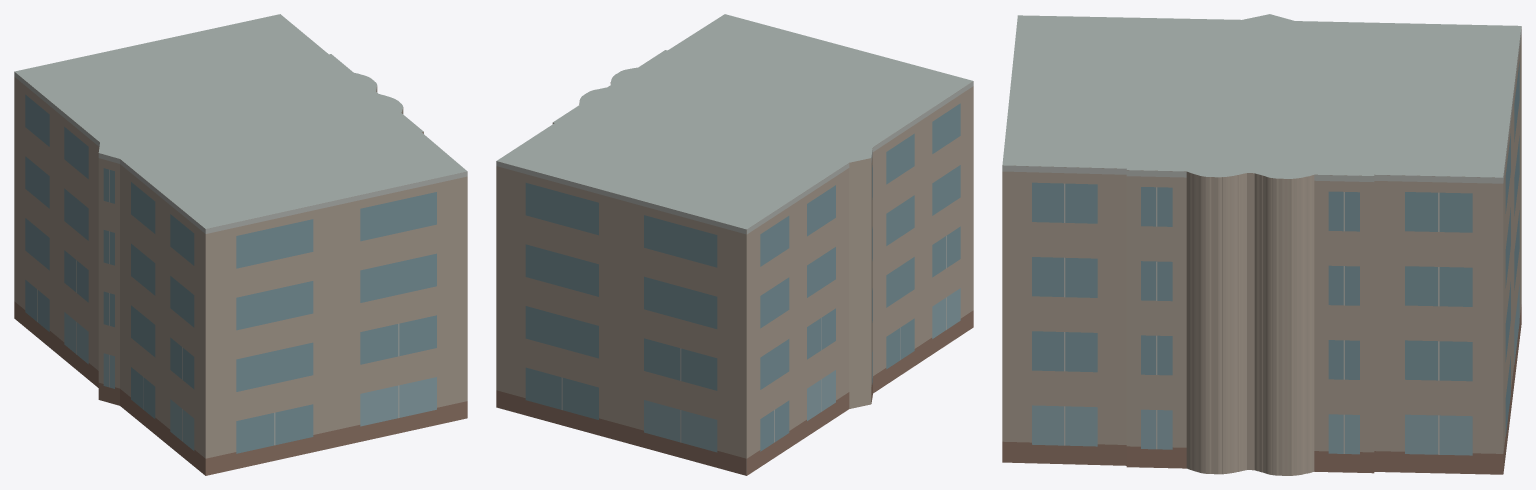
Rendered from survey-upis-32662770.glb.
3 renders of one model, left to right at view 1: azimuth 30°, elevation 25°; view 2: azimuth 150°, elevation 25°; view 3: azimuth 270°, elevation 25°, orthographic. The views are drawn at different scales.
Visible parts, largest first — view 1: survey-upis-32662770.tmp; view 2: survey-upis-32662770.tmp; view 3: survey-upis-32662770.tmp.
Boxes of the visible parts, box(x1,y1,x2,y2) form: survey-upis-32662770.tmp: box(14, 14, 467, 475); survey-upis-32662770.tmp: box(496, 14, 973, 475); survey-upis-32662770.tmp: box(1002, 14, 1521, 475).
Size of the model in its own units: 14.17 by 11.9 by 18.86.
